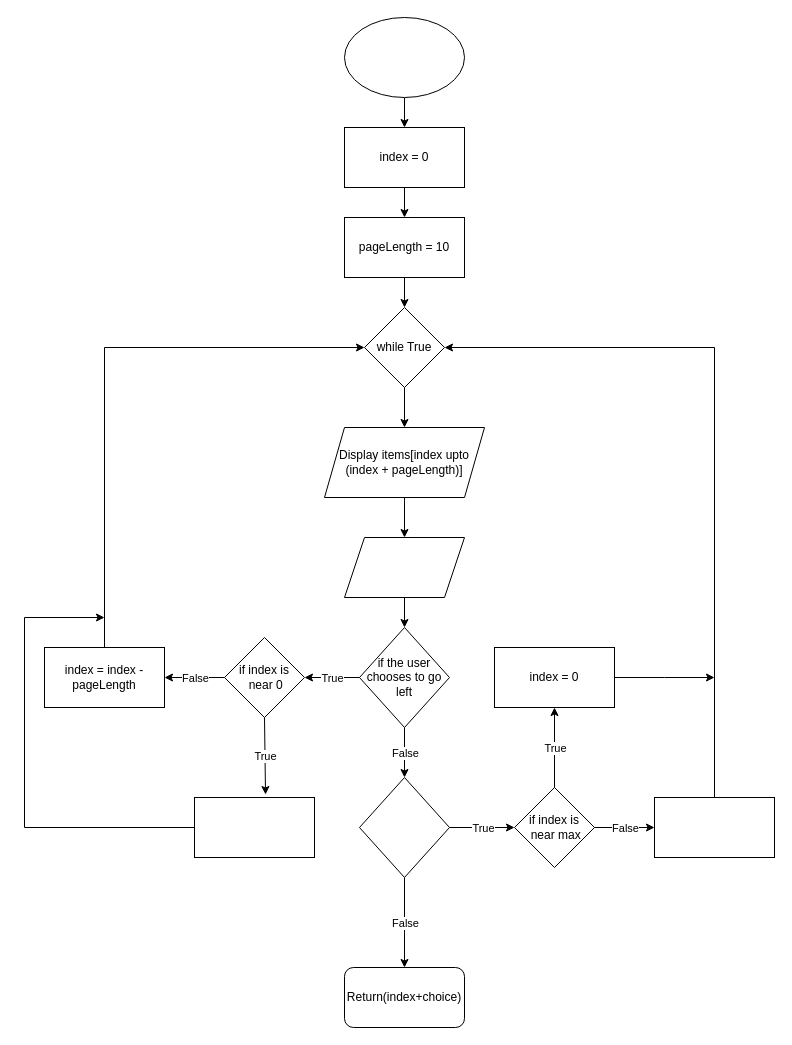
The diagram is 792 pixels wide and 1045 high, and some of its shapes have lost their labels. The shapes that lost their labels are listed below. From the top down, each one's centre as x and y in pixels, then its label:
At [404,57]: "Start (2 Variables given, topText & items)".
At [404,567]: "Get user choice".
At [254,827]: "index = len(items) - pageLength".
At [404,827]: "if the user chooses to go right".
At [714,827]: "index = index + pageLength".
